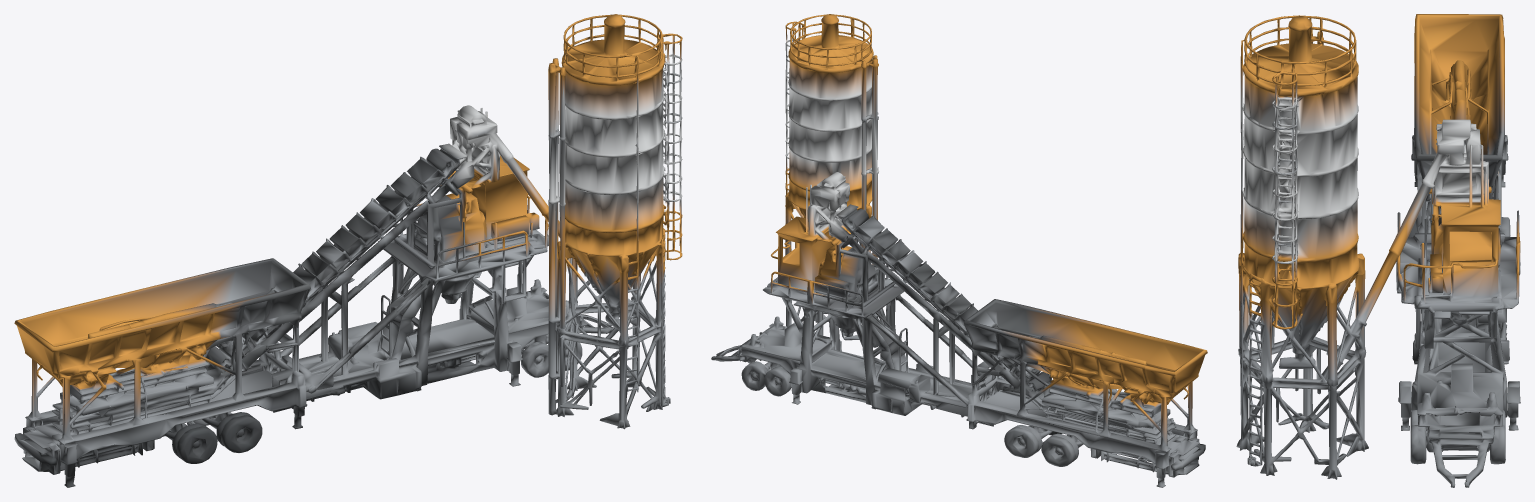
Rendered from batching-plant.glb.
3 views of the same model, side by side, from view 1: azimuth 30°, elevation 25°; view 2: azimuth 150°, elevation 25°; view 3: azimuth 270°, elevation 25° (orthographic). The views are drawn at different scales.
Bounding box in the file's own units: 1.9 × 1.22 × 0.708.
